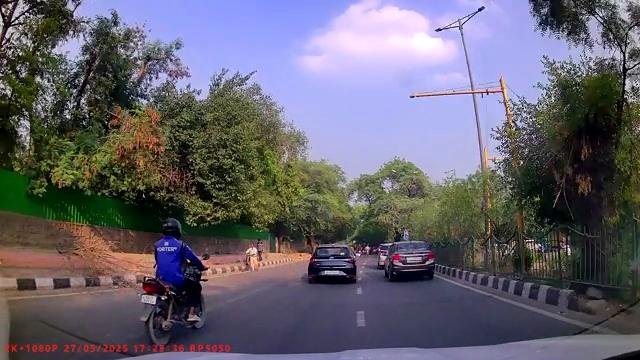motorcycle_with_helmet: (139, 217, 208, 344)
